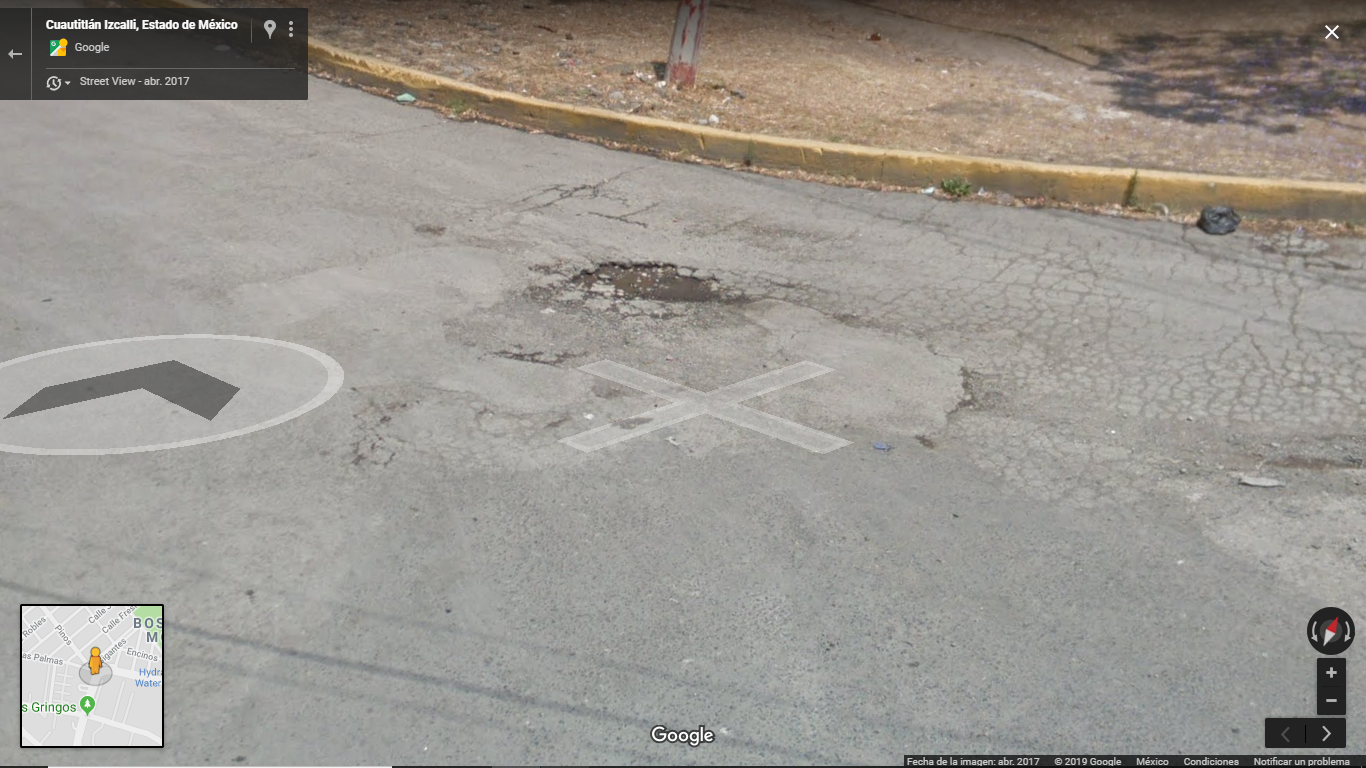pothole: (561, 239, 764, 336), (915, 340, 1038, 447)
